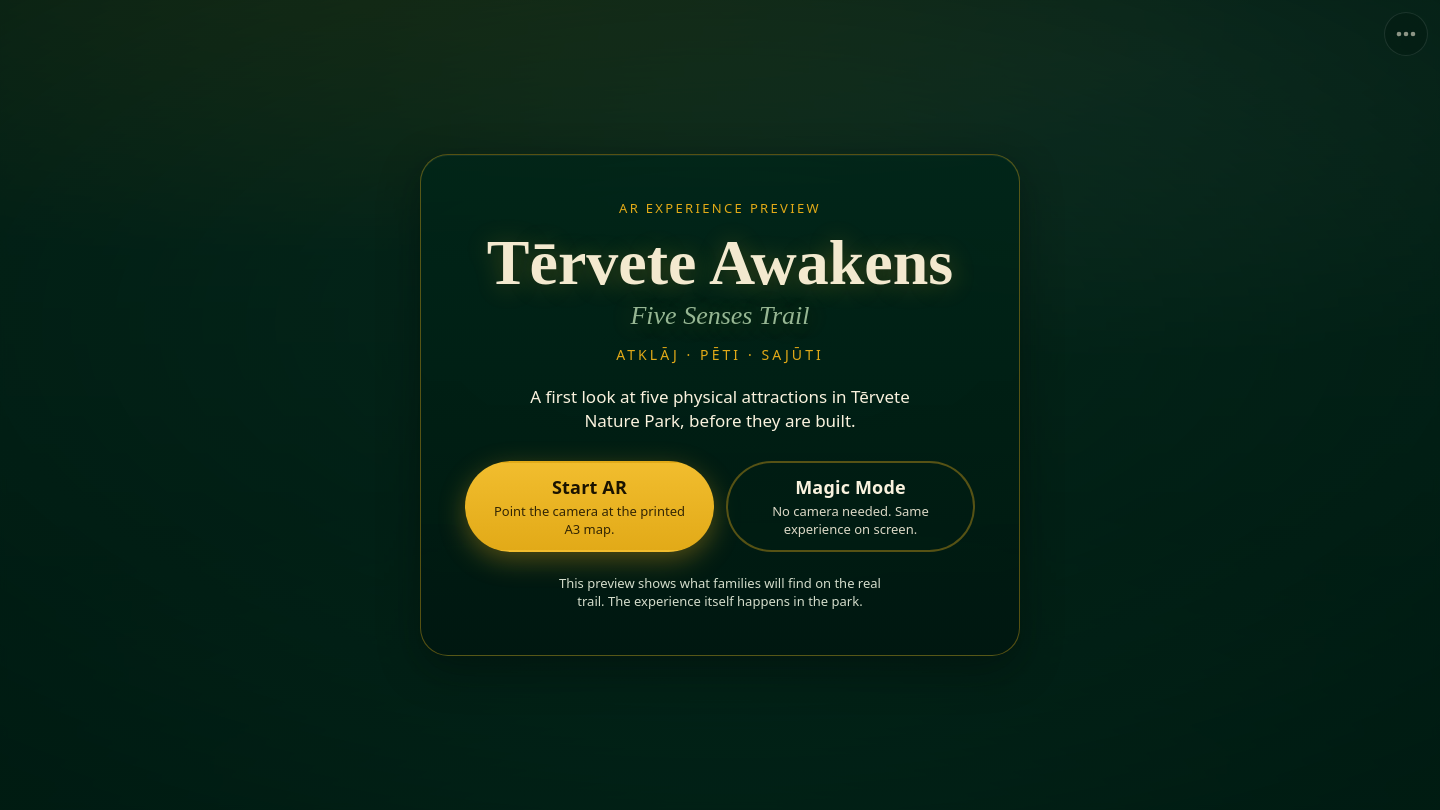
Scenario: presenter controls › mute toggles from the panel and with M
Press p
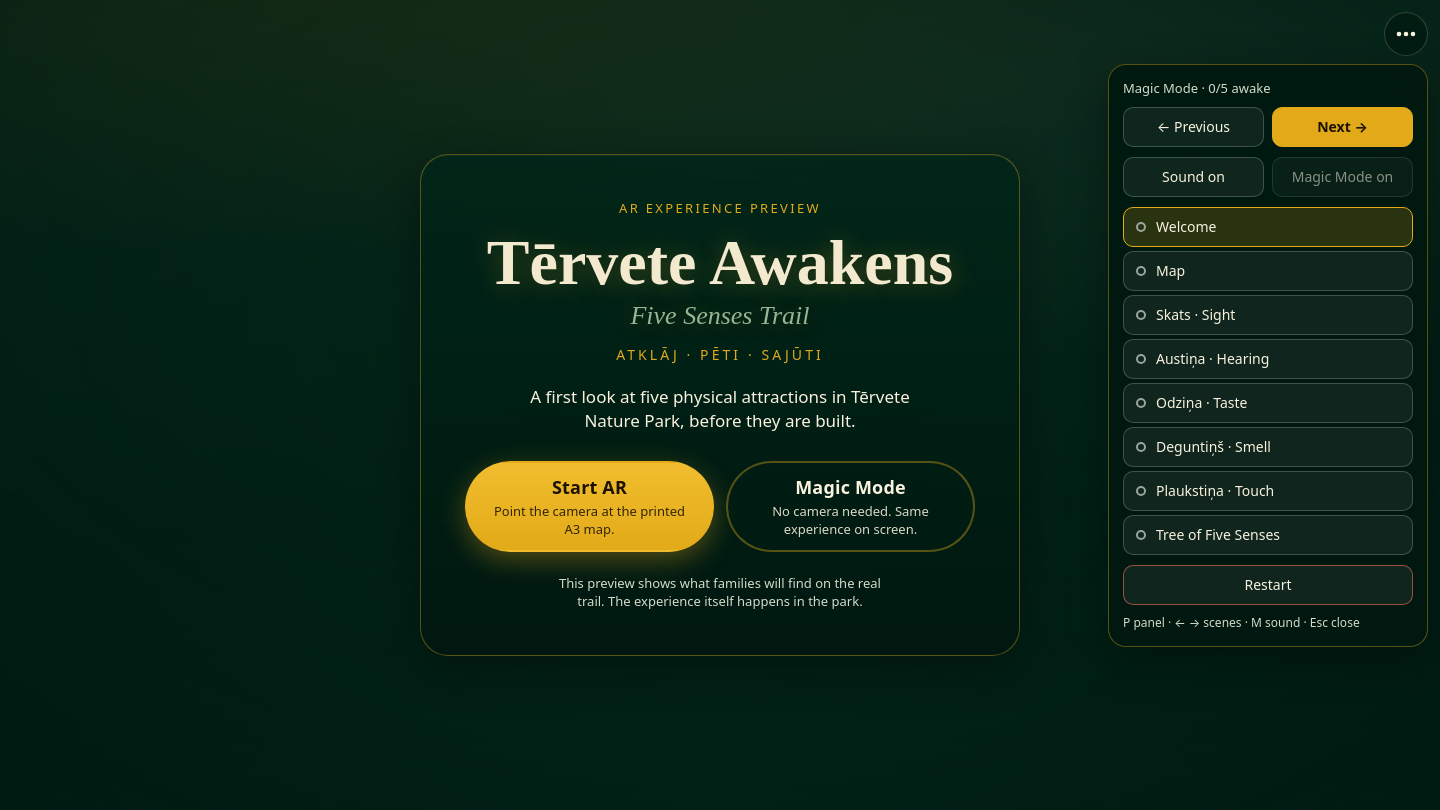
Click the button "Sound on". click: (1194, 177)
box: left=1123, top=157, right=1264, bottom=197
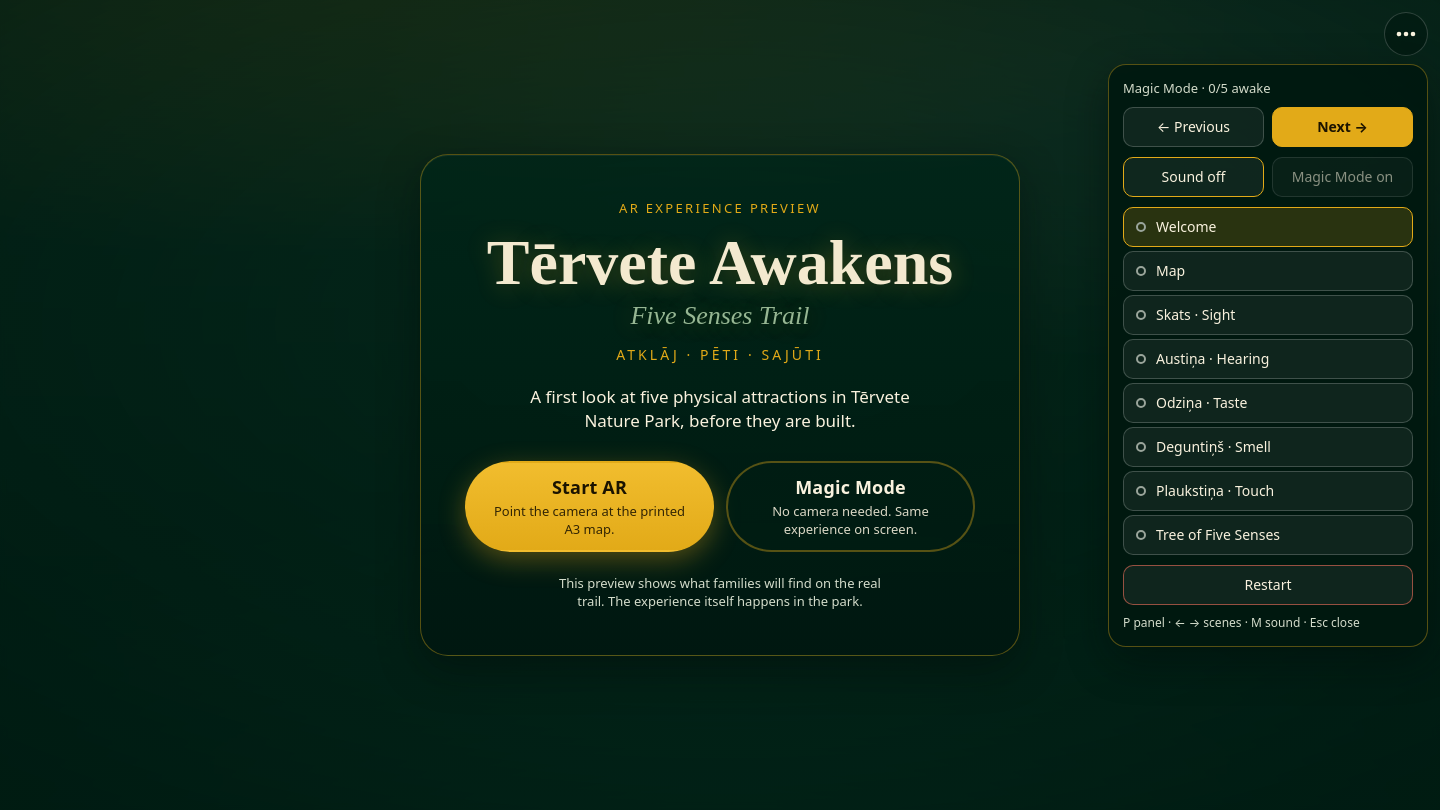
expect the button "Sound off" is pressed: met, box left=1123, top=157, right=1264, bottom=197
Press m
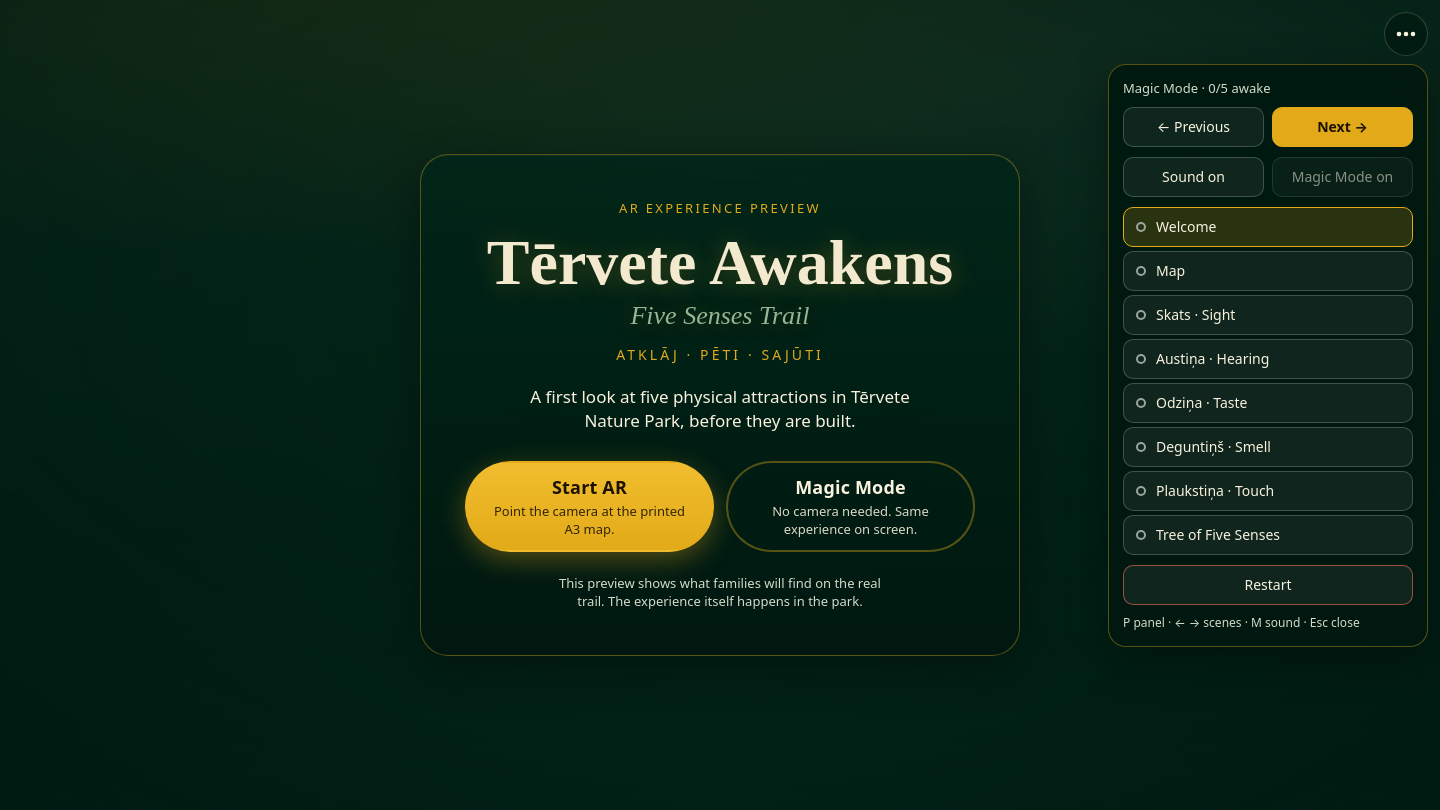
expect the button "Sound on" is shown: met, box left=1123, top=157, right=1264, bottom=197
